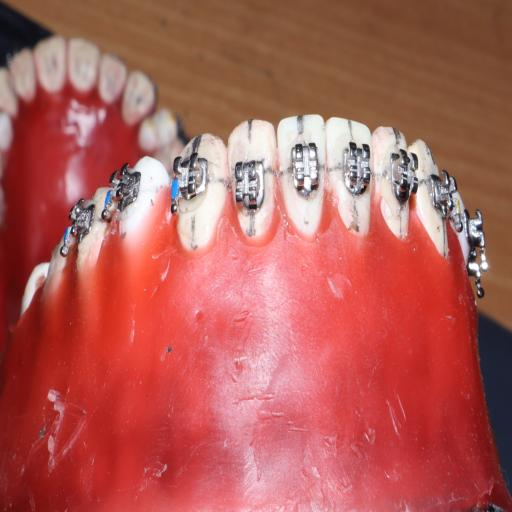correct_brace: (287, 135, 322, 204)
incorrect_brace: (226, 111, 278, 245), (231, 148, 270, 218)
